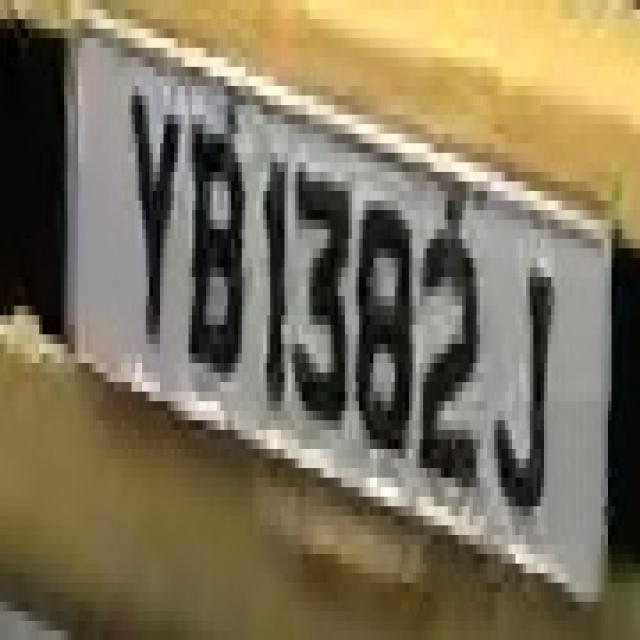1: (263, 134, 295, 430)
2: (409, 191, 487, 525)
3: (292, 143, 352, 440)
8: (349, 152, 423, 478)
B: (185, 105, 256, 401)
J: (494, 229, 562, 535)
Y: (117, 38, 185, 392)
